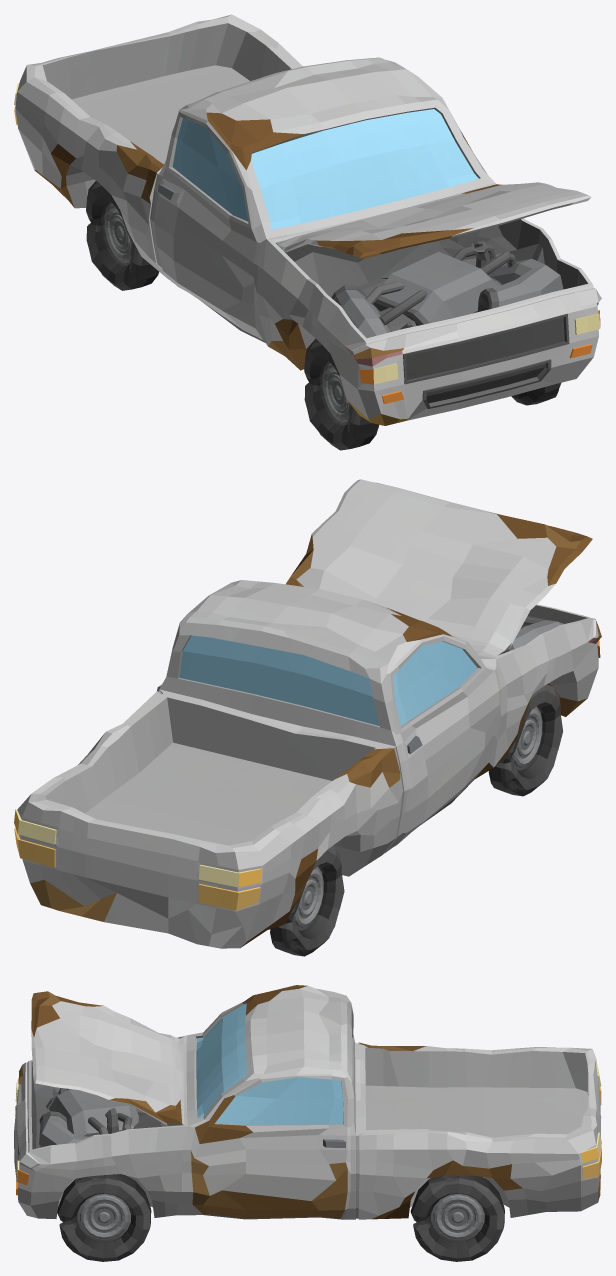
File: pickup_1.glb
3 renders of one model, top to bottom at view 1: azimuth 30°, elevation 25°; view 2: azimuth 150°, elevation 25°; view 3: azimuth 270°, elevation 25°, orthographic. The views are drawn at different scales.
Visible parts, largest first — view 1: car, engine, car_wheel.005, car_wheel.004, car_wheel.002; view 2: car, car_wheel.005, car_wheel.004, engine; view 3: car, car_wheel.002, car_wheel.003, engine.
Part boxes in pixels (<box>): car: <box>14,14,601,425</box>; engine: <box>331,244,563,338</box>; car_wheel.005: <box>304,338,379,450</box>; car_wheel.004: <box>86,181,158,290</box>; car_wheel.002: <box>511,382,561,405</box>; car: <box>14,479,601,948</box>; car_wheel.005: <box>488,684,563,796</box>; car_wheel.004: <box>270,846,344,956</box>; engine: <box>499,616,563,654</box>; car: <box>14,985,601,1219</box>; car_wheel.002: <box>57,1174,151,1261</box>; car_wheel.003: <box>410,1175,504,1261</box>; engine: <box>33,1080,139,1174</box>.
Bounding box in the file's own units: 2.08 × 1.93 × 5.08.
1 material, 1 textured.
